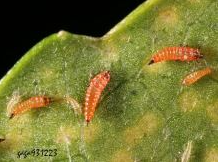thrips: (82, 69, 111, 126), (147, 44, 203, 66), (10, 94, 53, 119), (182, 66, 212, 87)
